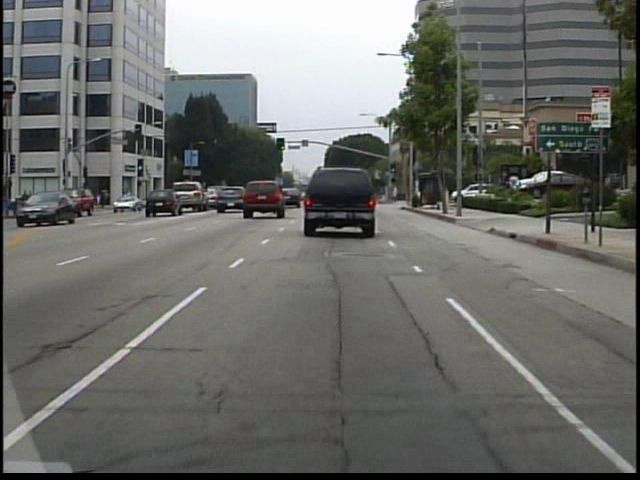person: (123, 188, 135, 211), (391, 182, 403, 204)
